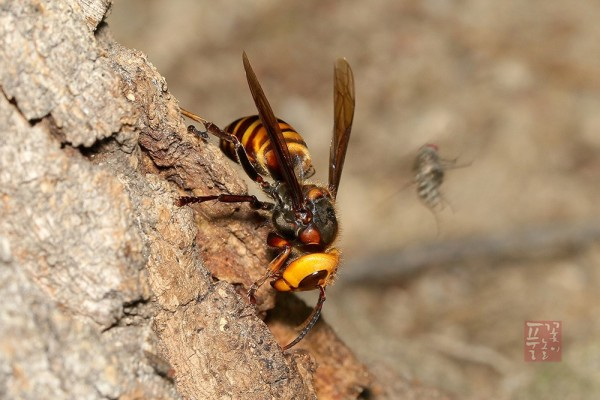asian_giant_hornet: (168, 91, 377, 300)
